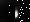person: (17, 7, 25, 21)
